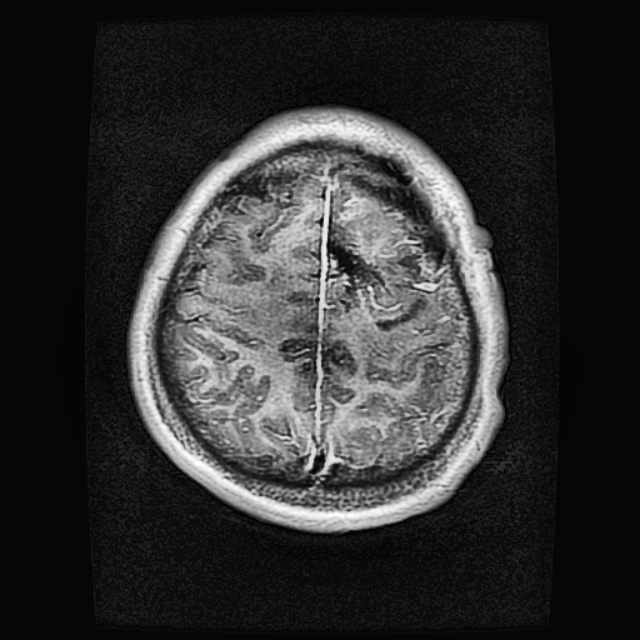Glioma: (324, 173, 444, 302)
